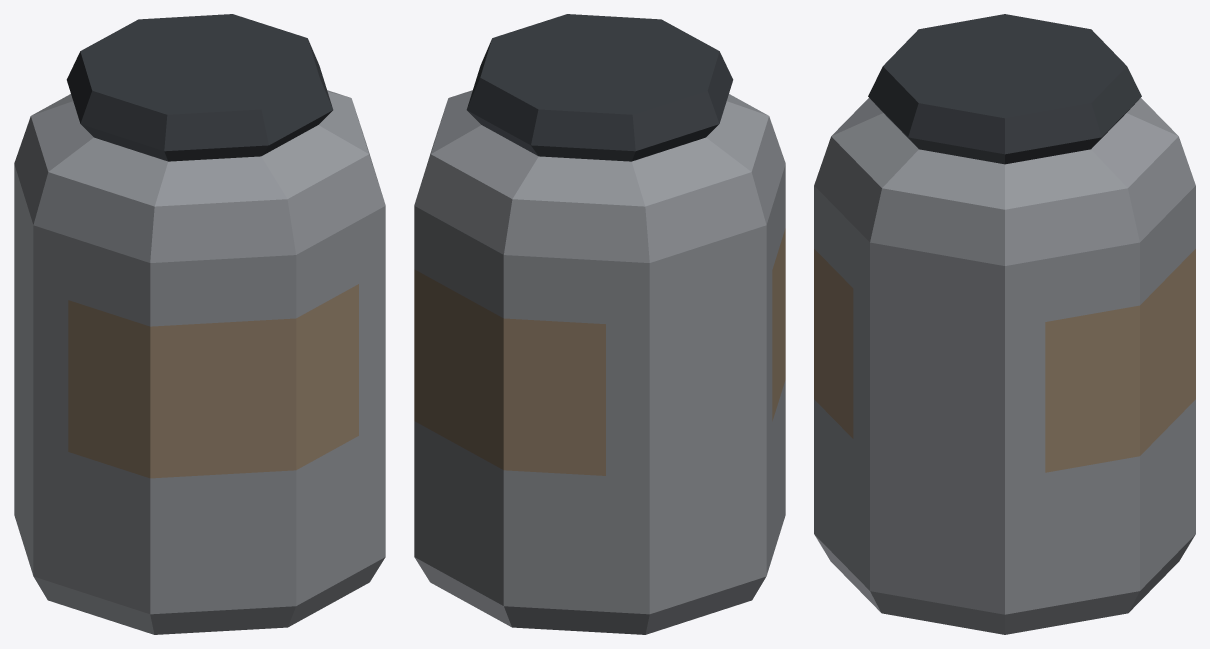
The model's file is SM_Prop_Container_01.obj.
3 renders of one model, left to right at view 1: azimuth 30°, elevation 25°; view 2: azimuth 150°, elevation 25°; view 3: azimuth 270°, elevation 25°, orthographic.
Parts seen in each view (by area): view 1: SM_Prop_Container_01_M_PolygonOffice_01_A; view 2: SM_Prop_Container_01_M_PolygonOffice_01_A; view 3: SM_Prop_Container_01_M_PolygonOffice_01_A.
Part boxes in pixels (bbox=[...]): SM_Prop_Container_01_M_PolygonOffice_01_A: bbox=[14, 14, 385, 634]; SM_Prop_Container_01_M_PolygonOffice_01_A: bbox=[414, 14, 785, 634]; SM_Prop_Container_01_M_PolygonOffice_01_A: bbox=[814, 14, 1195, 634].
Size of the model in its own units: 0.2019 by 0.2888 by 0.2019.
Materials: 1 (1 with a texture image).
